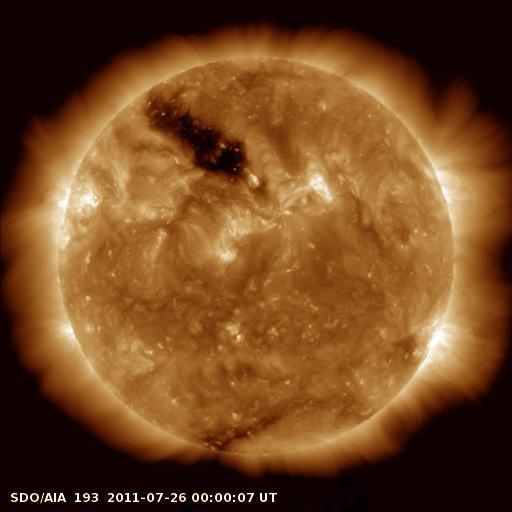coronal_hole: (143, 93, 247, 183), (199, 418, 281, 457)
